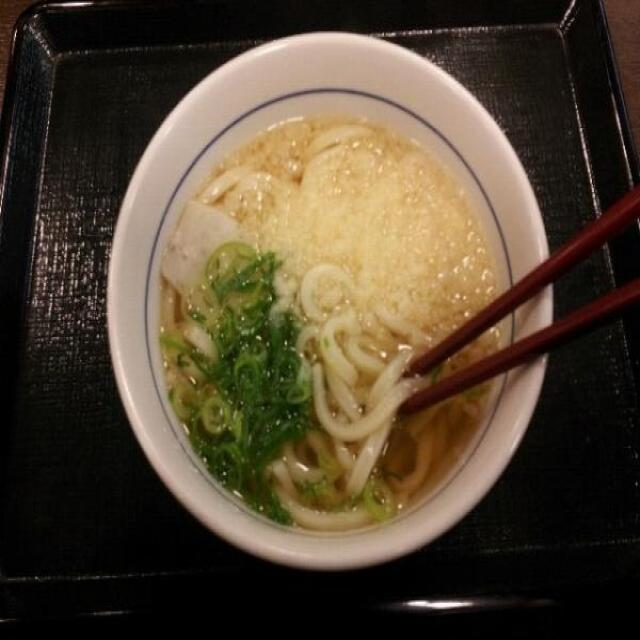面条主食: (98, 30, 555, 576)
